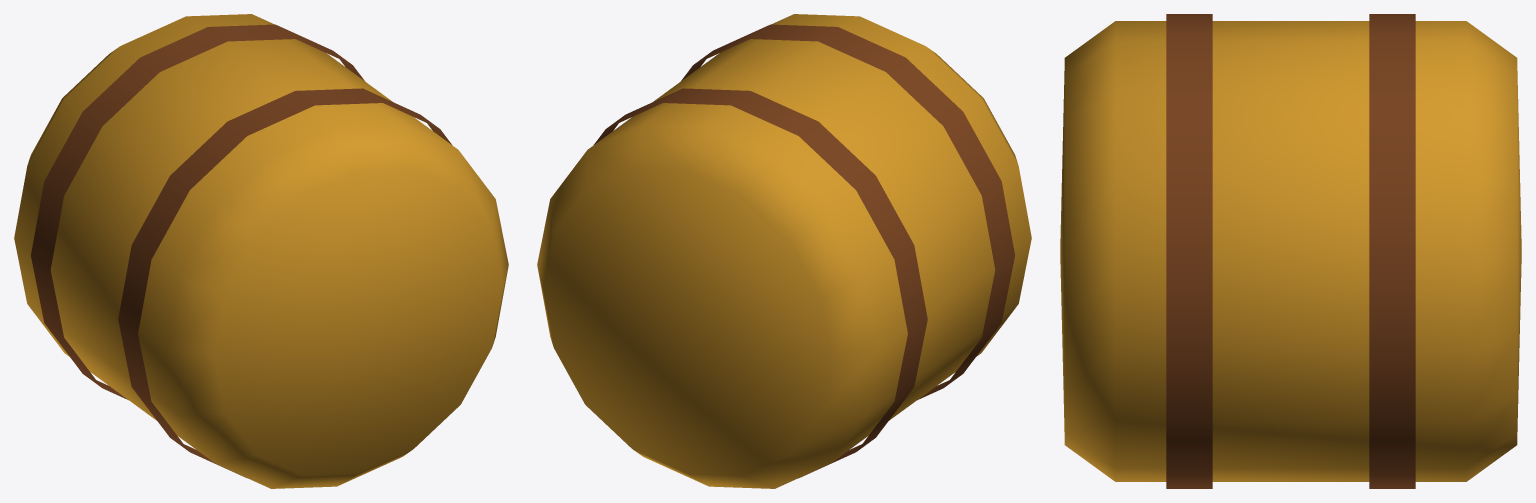
Rendered from heuballen.glb.
3 renders of one model, left to right at view 1: azimuth 30°, elevation 25°; view 2: azimuth 150°, elevation 25°; view 3: azimuth 270°, elevation 25°, orthographic. The views are drawn at different scales.
Parts seen in each view (by area): view 1: RanchHeuballen; view 2: RanchHeuballen; view 3: RanchHeuballen.
Boxes of the visible parts, bbox=[...] form: RanchHeuballen: bbox=[14, 14, 508, 488]; RanchHeuballen: bbox=[537, 14, 1031, 488]; RanchHeuballen: bbox=[1060, 14, 1521, 488].
Size of the model in its own units: 1.03 by 1.03 by 1.
Materials: 1 (1 with a texture image).
